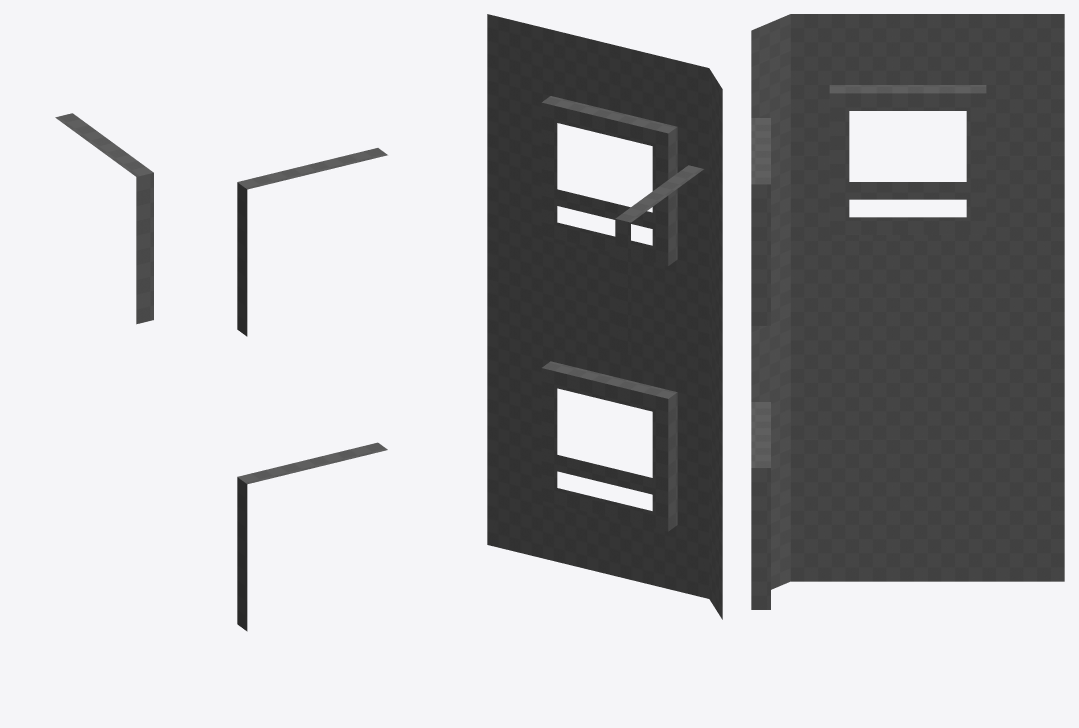
3 renders of one model, left to right at view 1: azimuth 30°, elevation 25°; view 2: azimuth 150°, elevation 25°; view 3: azimuth 270°, elevation 25°, orthographic. The views are drawn at different scales.
Visible parts, largest first — view 1: CubeInBackRightV3; view 2: CubeInBackRightV3; view 3: CubeInBackRightV3.
Part boxes in pixels (<box>): CubeInBackRightV3: <box>55,113,387,631</box>; CubeInBackRightV3: <box>487,14,722,619</box>; CubeInBackRightV3: <box>751,14,1064,609</box>.
Bounding box in the file's own units: 2 × 4 × 2.
1 material, 1 textured.
